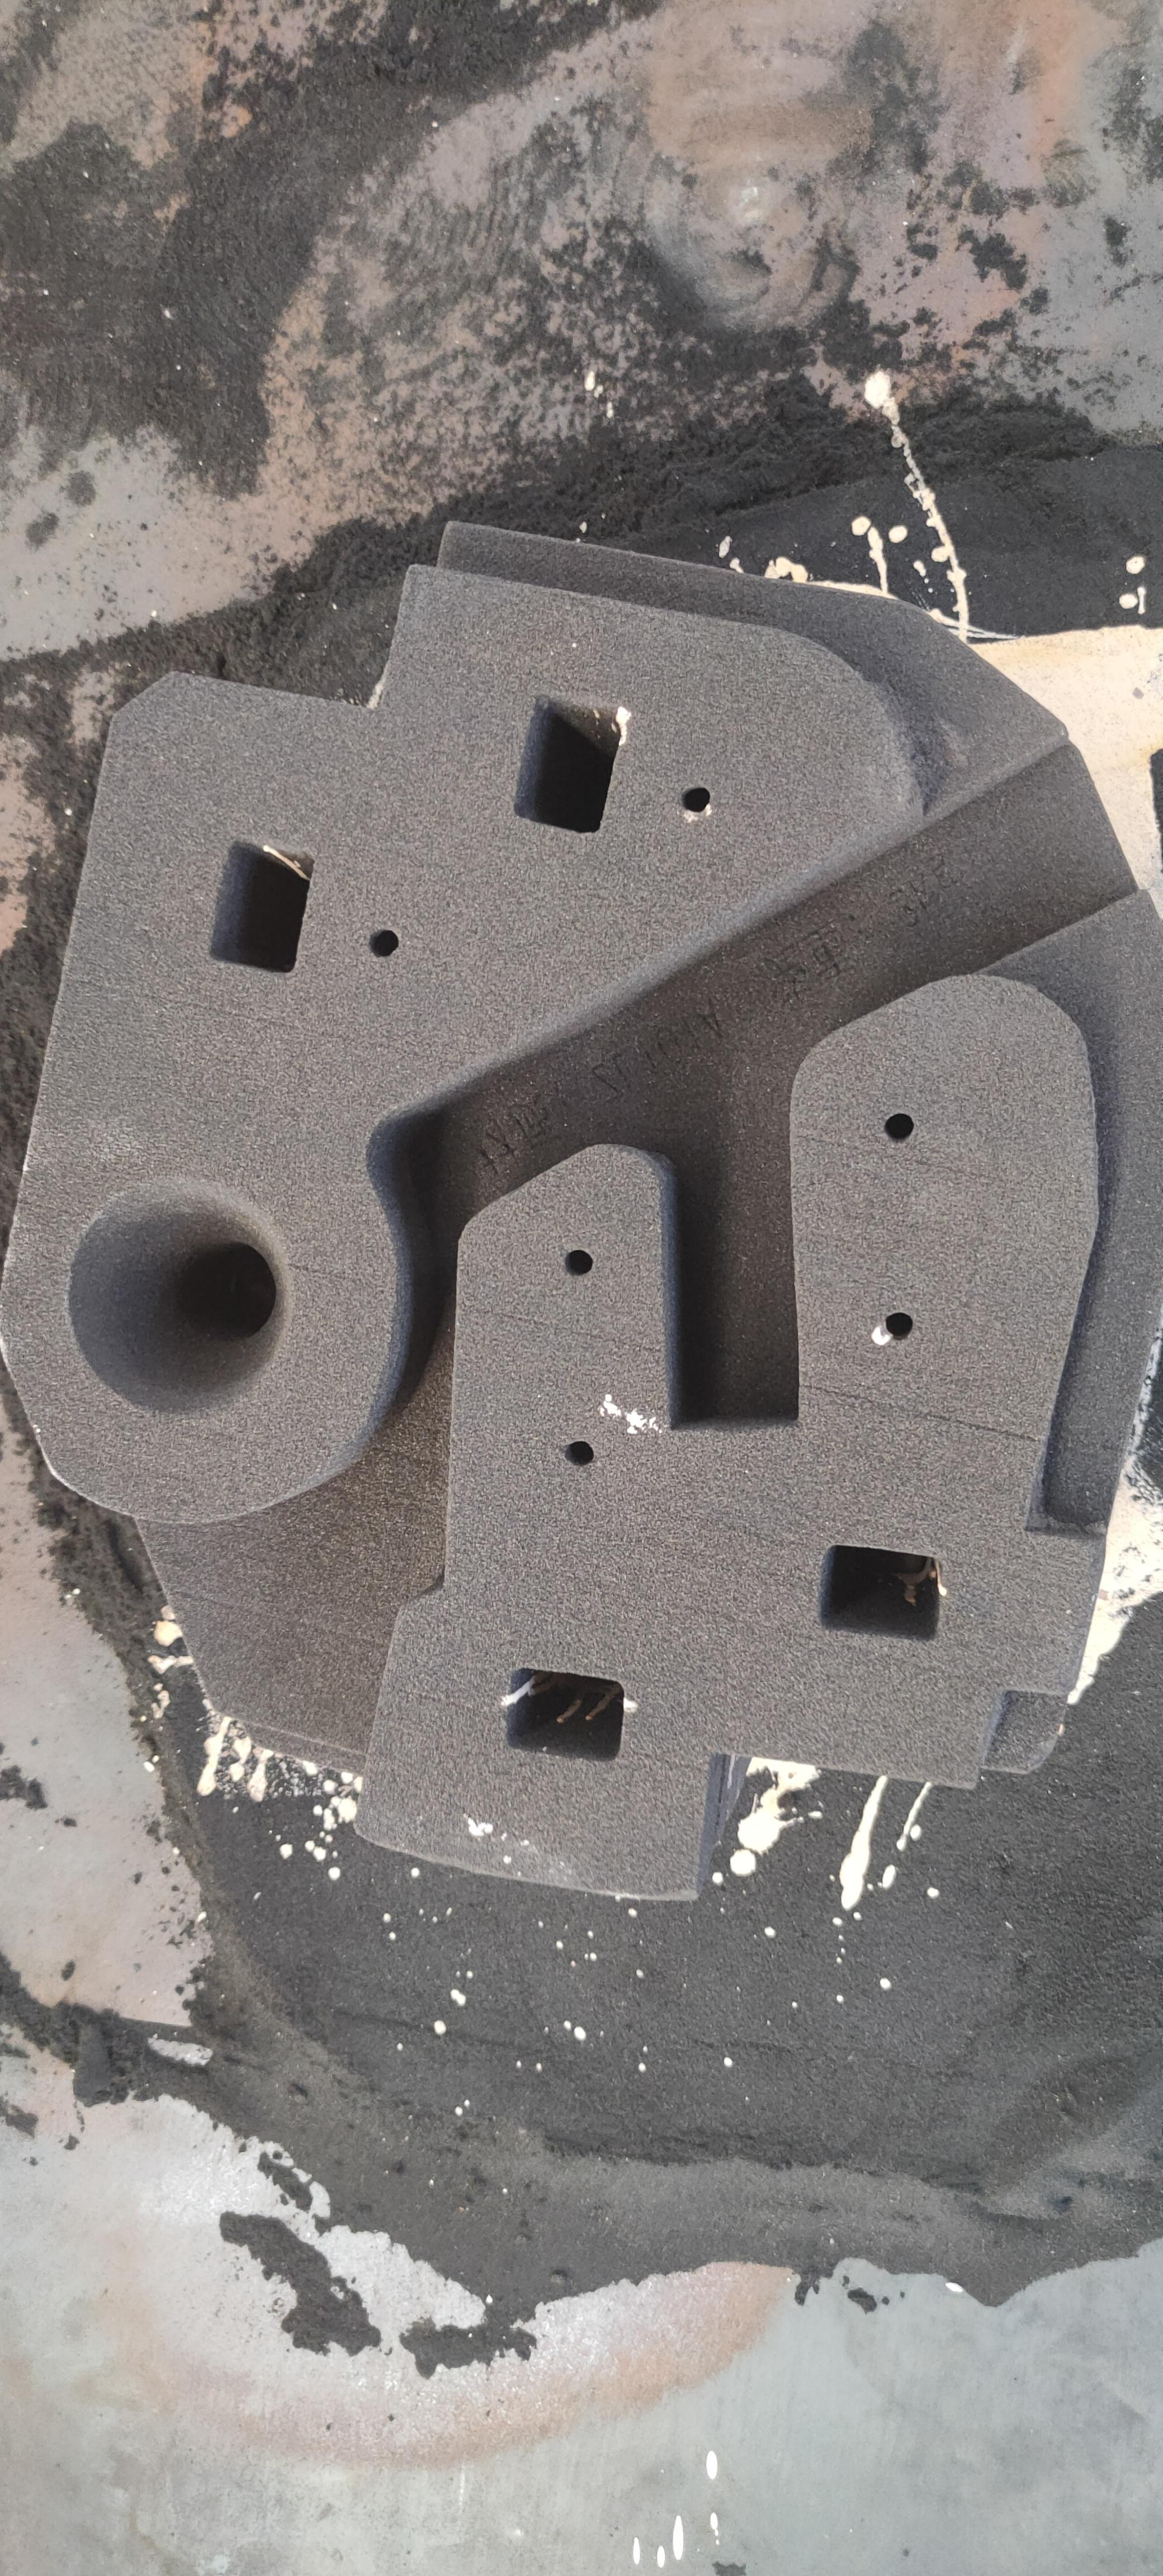pouring hole: (67, 1176, 292, 1416)
